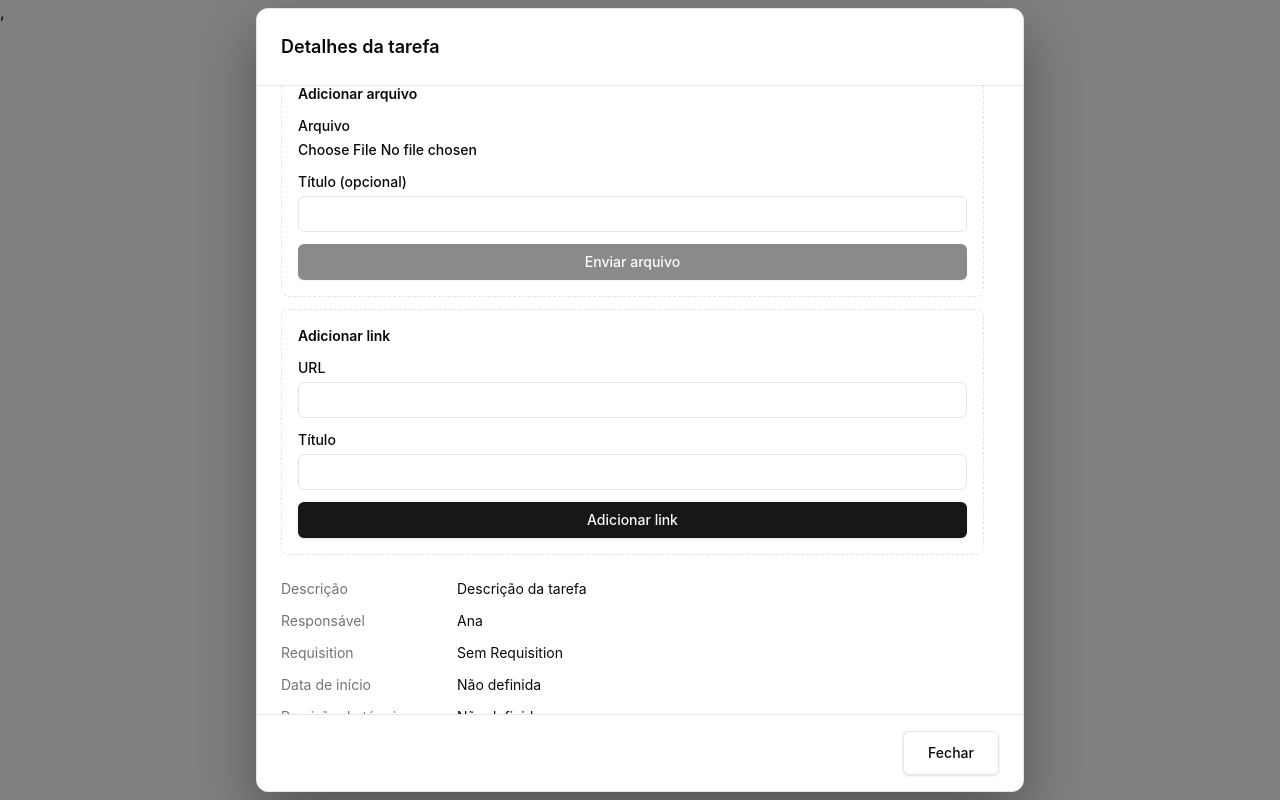
it: TaskDetailDialog › exibe formulário LINK, valida campos e preserva valores após erro
(page scrolled)
In the field labelled "URL": [632, 400] box [298,382,967,418], type "not-a-url"
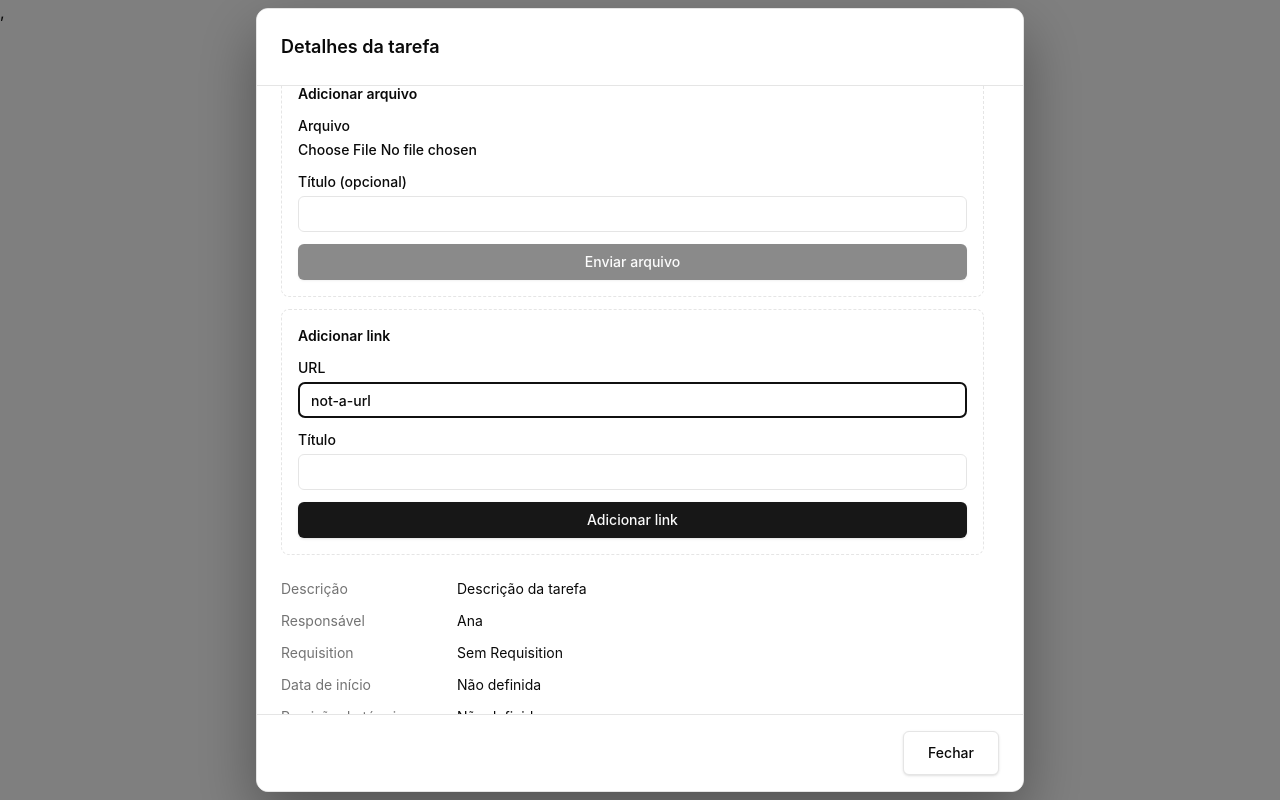
In the field labelled "Título": [632, 472] box [298,454,967,490], type "Documentação"
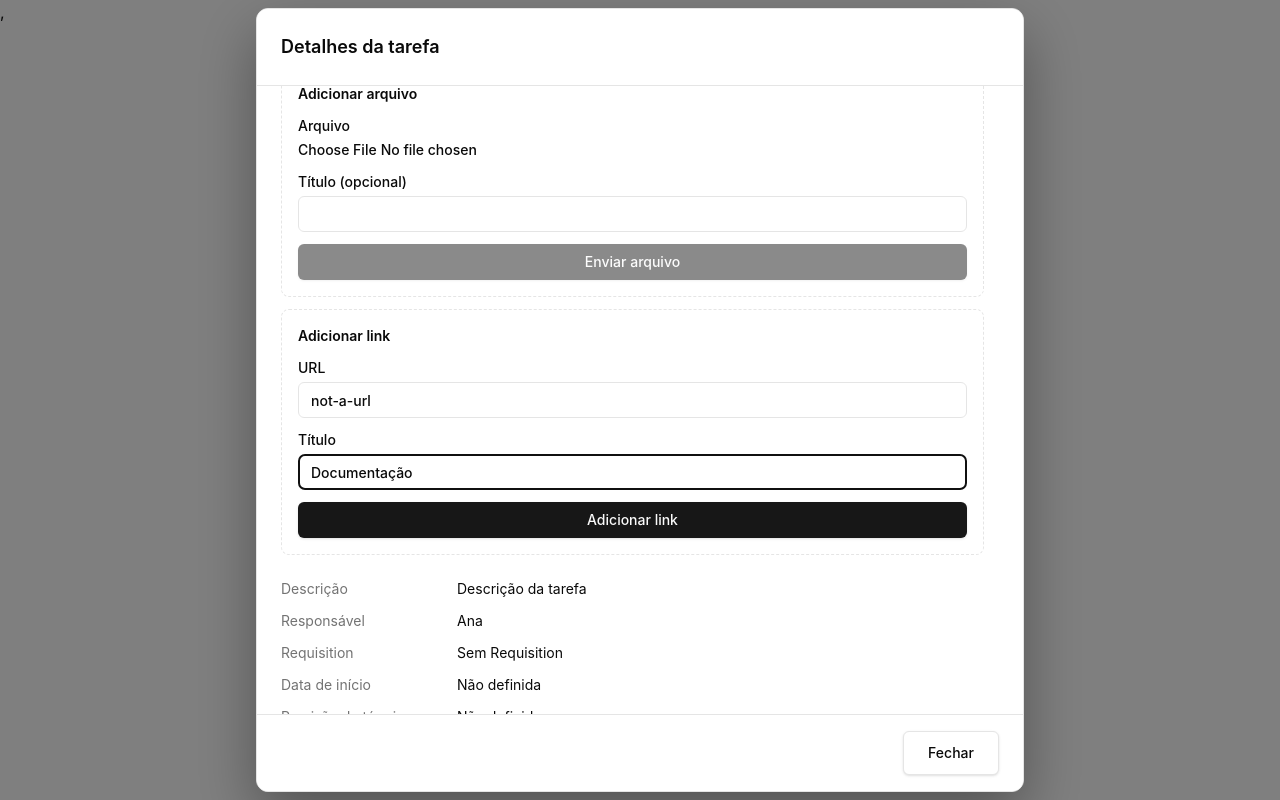
Submit the form "Adicionar link", box [281,309,984,555]
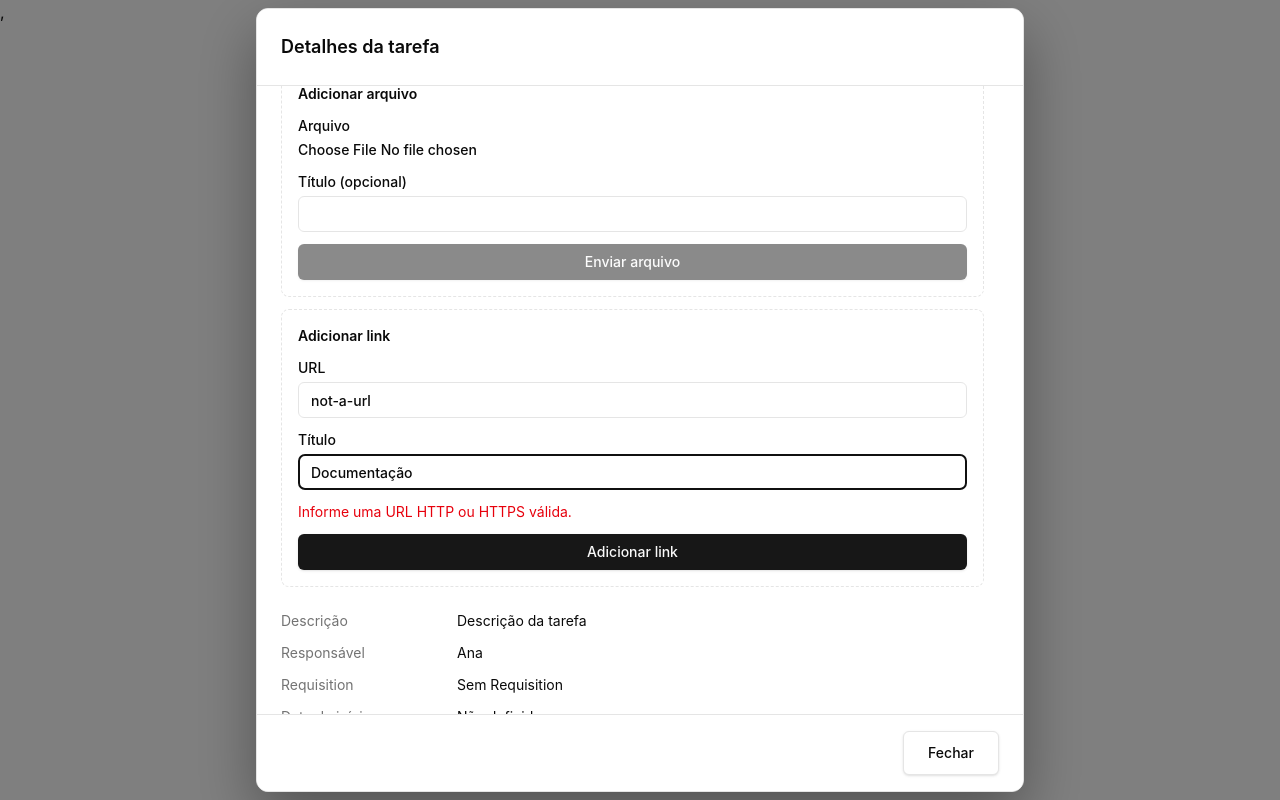
Result: the message shows "URL HTTP ou HTTPS válida" at [298,503,572,520]
